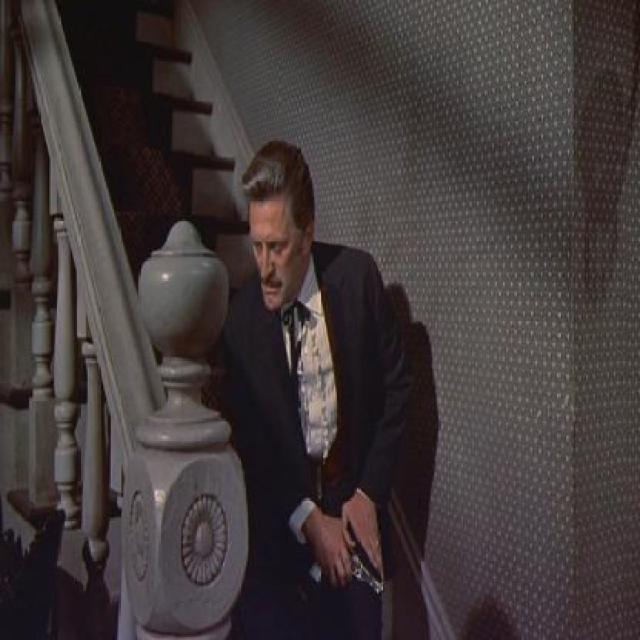gun: (332, 517, 390, 611)
